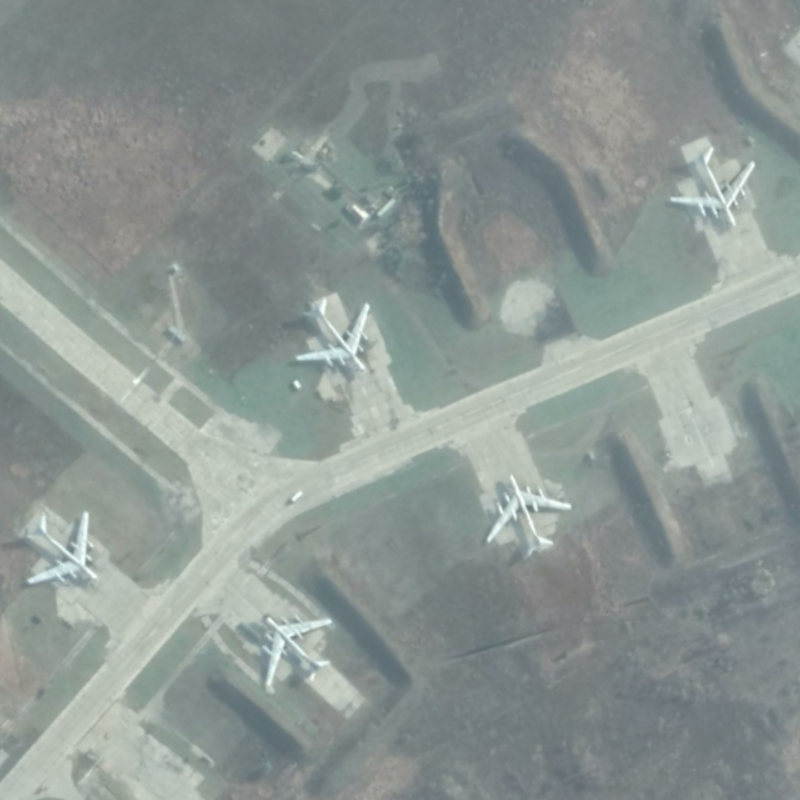A17: (485, 472, 575, 559), (668, 144, 757, 230), (294, 295, 372, 374), (24, 509, 99, 586), (260, 614, 335, 691)
